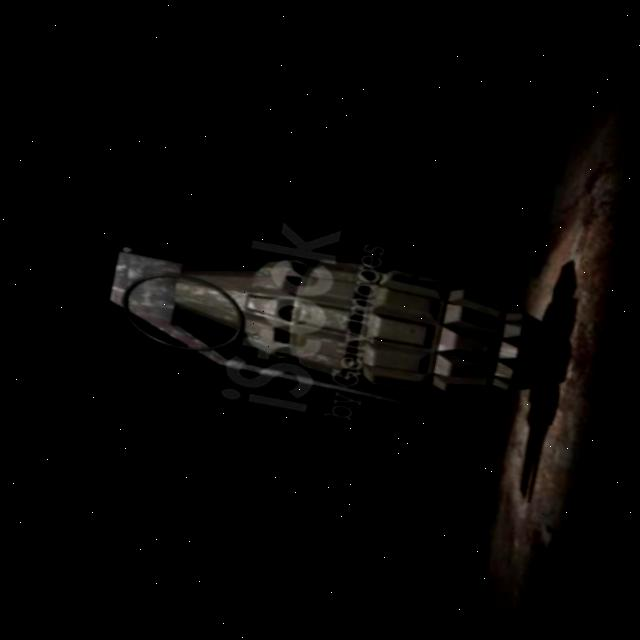grenade: (83, 192, 573, 441)
